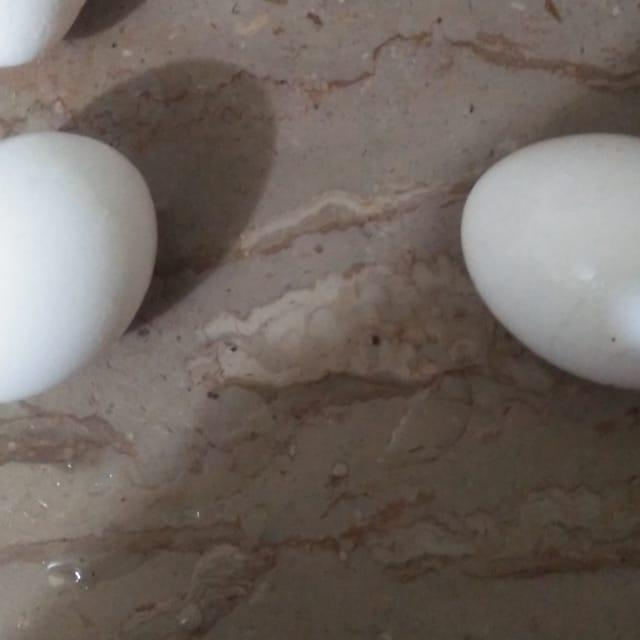egg: (0, 126, 175, 416), (457, 128, 640, 393)
